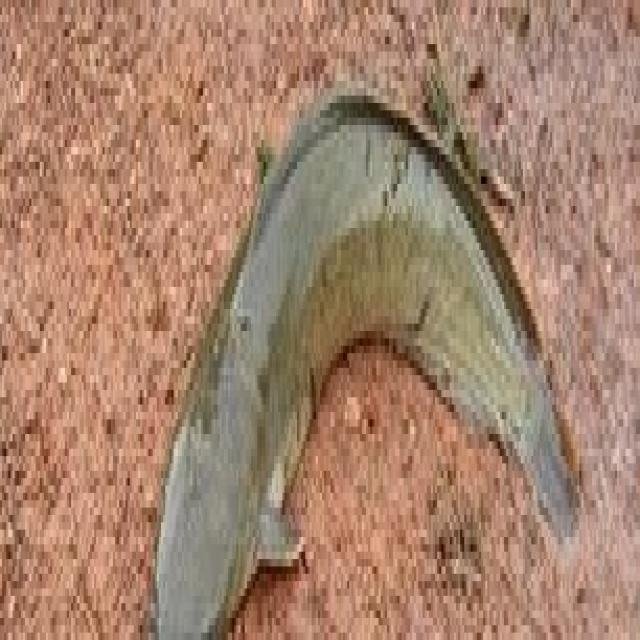Catfish: (144, 74, 580, 622)
